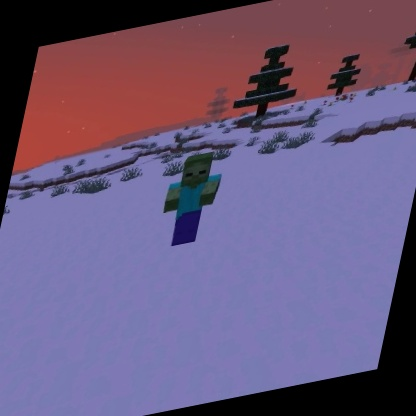zombie: (151, 144, 230, 253)
